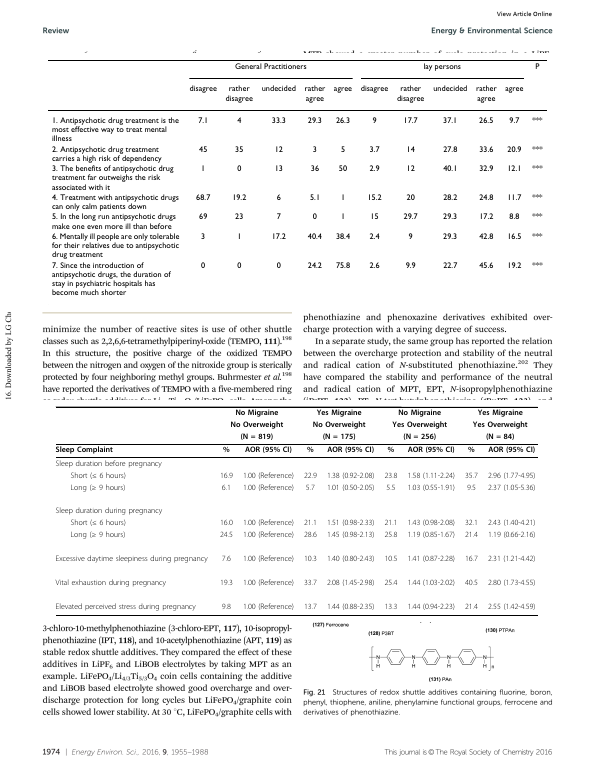borderless: (46, 58, 548, 306), (55, 405, 538, 615)
cell: (50, 261, 171, 298), (50, 232, 180, 260), (50, 116, 179, 144), (50, 164, 174, 193), (50, 212, 176, 232), (50, 193, 179, 212), (50, 145, 162, 164), (55, 555, 209, 564), (55, 603, 197, 612), (55, 459, 163, 469), (55, 507, 163, 517), (55, 579, 167, 588), (233, 62, 307, 72), (69, 471, 127, 481), (69, 519, 127, 529), (69, 483, 126, 493), (69, 531, 126, 541), (395, 85, 425, 104), (224, 85, 253, 104), (55, 446, 114, 455), (242, 471, 295, 481), (242, 483, 295, 493), (242, 519, 295, 529), (242, 531, 295, 541), (391, 421, 448, 430), (472, 421, 528, 430), (406, 471, 456, 481), (406, 483, 456, 493), (406, 519, 456, 529), (406, 531, 456, 541), (326, 471, 375, 481), (487, 471, 536, 481), (326, 483, 375, 493), (487, 483, 536, 493), (326, 519, 375, 529), (487, 519, 536, 529), (326, 531, 375, 541), (487, 531, 536, 541), (230, 421, 284, 430), (312, 421, 366, 430), (242, 555, 295, 564), (242, 579, 295, 588), (242, 603, 295, 612), (406, 555, 456, 564), (406, 579, 456, 588), (406, 603, 456, 612), (244, 446, 293, 455), (326, 446, 375, 455), (487, 446, 536, 455), (326, 555, 375, 564), (487, 555, 536, 564), (326, 579, 375, 588), (487, 579, 536, 588), (326, 603, 375, 612), (487, 603, 536, 612), (303, 85, 326, 104), (474, 85, 497, 104), (407, 446, 455, 455), (316, 409, 363, 418), (477, 409, 524, 418), (234, 409, 279, 418), (397, 409, 442, 418), (422, 62, 461, 72), (260, 85, 296, 94), (432, 85, 468, 94), (239, 433, 274, 442), (402, 433, 437, 442), (322, 433, 356, 442), (485, 433, 515, 442), (359, 85, 389, 94), (188, 85, 217, 94), (332, 85, 353, 94), (504, 85, 524, 94), (334, 232, 351, 242), (334, 261, 351, 271), (270, 116, 286, 126), (306, 116, 322, 126), (334, 116, 350, 126), (402, 116, 418, 126), (442, 116, 458, 126), (478, 116, 494, 126), (442, 145, 458, 155), (478, 145, 494, 155), (506, 145, 522, 155), (442, 164, 458, 174), (478, 164, 494, 174), (506, 164, 522, 174), (195, 193, 211, 203), (231, 193, 247, 203), (366, 193, 382, 203), (442, 193, 458, 203), (478, 193, 494, 203), (506, 193, 522, 203), (402, 212, 418, 222), (442, 212, 458, 222), (478, 212, 494, 222), (270, 232, 286, 242), (306, 232, 322, 242), (442, 232, 458, 242), (478, 232, 494, 242), (506, 232, 522, 242), (306, 261, 322, 271), (442, 261, 458, 271), (478, 261, 494, 271), (506, 261, 522, 271), (219, 471, 234, 481), (303, 471, 318, 481), (383, 471, 398, 481), (464, 471, 479, 481), (219, 519, 234, 529), (303, 519, 318, 529), (383, 519, 398, 529), (464, 519, 479, 529), (219, 531, 234, 541), (303, 531, 318, 541), (383, 531, 398, 541), (464, 531, 479, 541), (303, 555, 318, 564), (383, 555, 398, 564), (464, 555, 479, 564), (219, 579, 234, 588), (303, 579, 318, 588), (383, 579, 398, 588), (464, 579, 479, 588), (303, 603, 318, 612), (383, 603, 398, 612), (464, 603, 479, 612), (197, 116, 209, 126), (508, 116, 520, 126), (531, 116, 543, 126), (368, 145, 380, 155), (531, 145, 543, 155), (368, 164, 380, 174), (531, 164, 543, 174), (308, 193, 320, 203), (531, 193, 543, 203), (508, 212, 520, 222), (531, 212, 543, 222), (368, 232, 380, 242), (531, 232, 543, 242), (368, 261, 380, 271), (404, 261, 416, 271), (531, 261, 543, 271), (221, 483, 232, 493), (305, 483, 316, 493), (385, 483, 396, 493), (466, 483, 477, 493), (309, 164, 320, 174), (337, 164, 348, 174), (198, 145, 208, 155), (234, 145, 244, 155), (273, 145, 283, 155), (405, 145, 415, 155), (273, 164, 283, 174), (405, 164, 415, 174), (405, 193, 415, 203), (198, 212, 208, 222), (234, 212, 244, 222), (369, 212, 379, 222), (221, 555, 232, 564), (221, 603, 232, 612), (222, 446, 231, 455), (306, 446, 315, 455), (386, 446, 395, 455), (467, 446, 476, 455), (339, 145, 346, 155), (339, 193, 346, 203), (339, 212, 346, 222), (534, 62, 540, 72), (236, 116, 242, 126), (371, 116, 377, 126), (311, 145, 317, 155), (200, 164, 206, 174), (236, 164, 242, 174), (275, 193, 281, 203), (275, 212, 281, 222), (311, 212, 317, 222), (200, 232, 206, 242), (236, 232, 242, 242), (407, 232, 413, 242), (200, 261, 206, 271), (236, 261, 242, 271), (275, 261, 281, 271)
